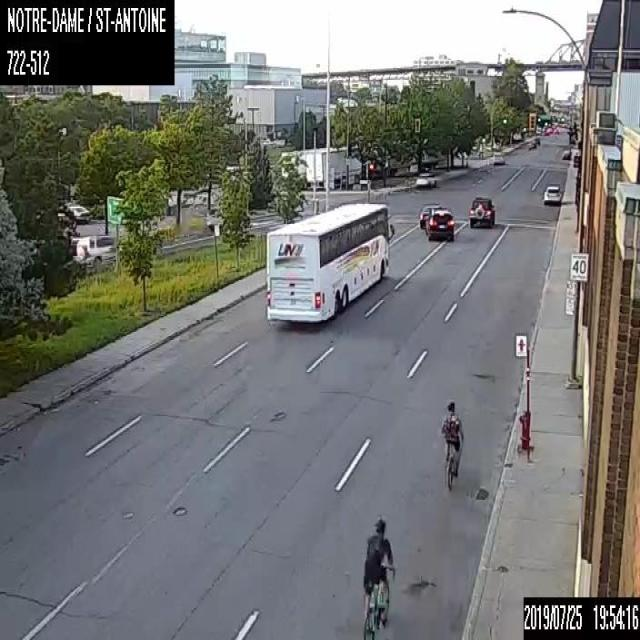bus: (264, 202, 394, 326)
cyclist: (362, 518, 394, 638), (436, 402, 464, 489)
vehicle: (306, 146, 362, 188), (74, 233, 115, 268), (424, 207, 454, 240), (468, 195, 494, 227), (57, 204, 89, 225), (418, 203, 444, 228), (542, 183, 561, 204), (414, 172, 436, 188), (492, 151, 506, 164)
